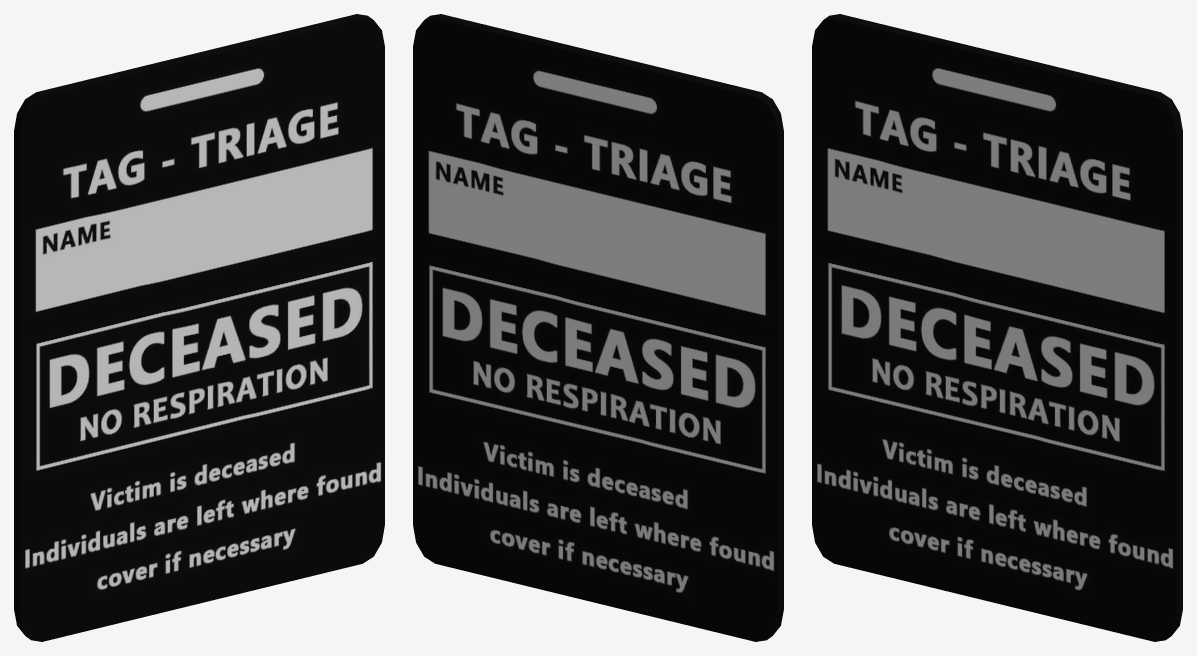
The model's file is Black.fbx.
3 renders of one model, left to right at view 1: azimuth 30°, elevation 25°; view 2: azimuth 150°, elevation 25°; view 3: azimuth 330°, elevation 25°, orthographic.
Visible parts, largest first — view 1: Black; view 2: Black; view 3: Black.
Boxes of the visible parts, box(x1,y1,x2,y2) form: Black: box(14, 14, 384, 641); Black: box(413, 14, 783, 641); Black: box(812, 14, 1182, 641).
Bounding box in the file's own units: 7.9 × 11.29 × 0.2258.
1 material, 1 textured.
